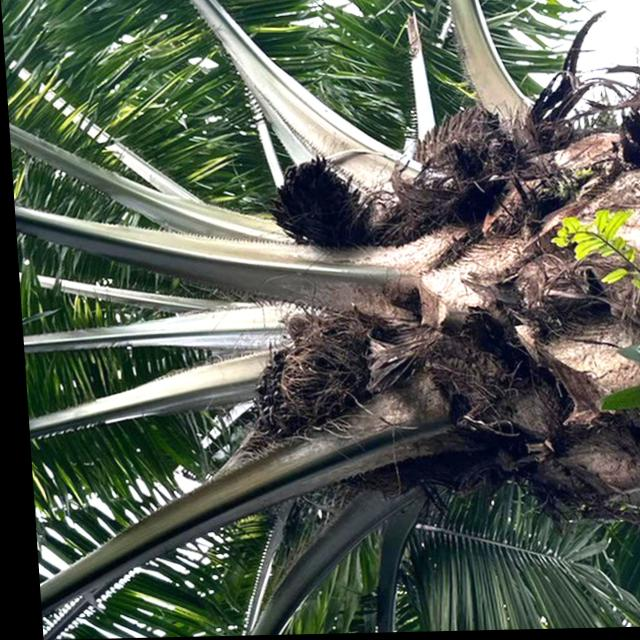almost: (233, 321, 355, 463)
